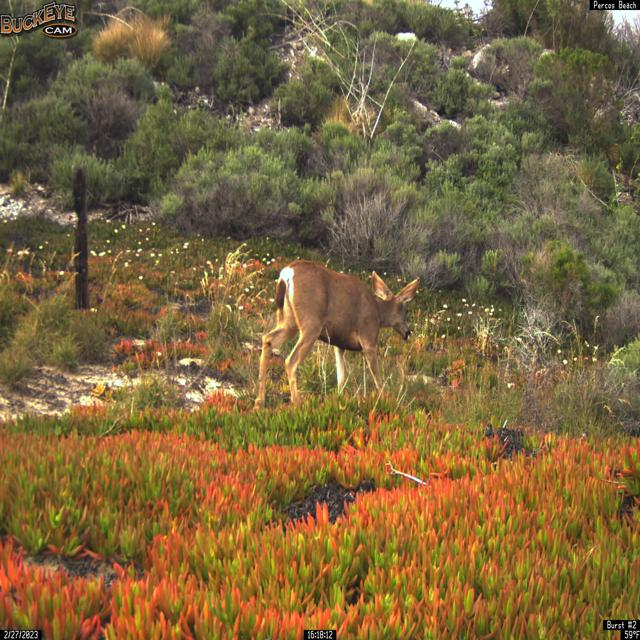deer: (252, 259, 421, 412)
